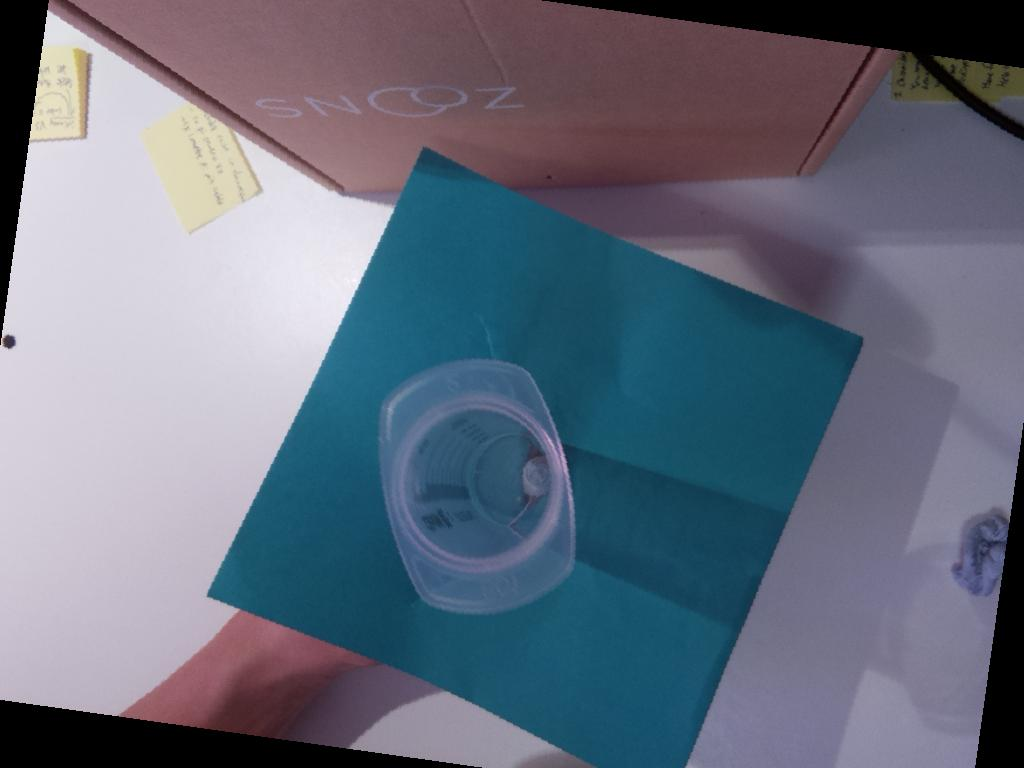clean: (379, 355, 575, 615)
